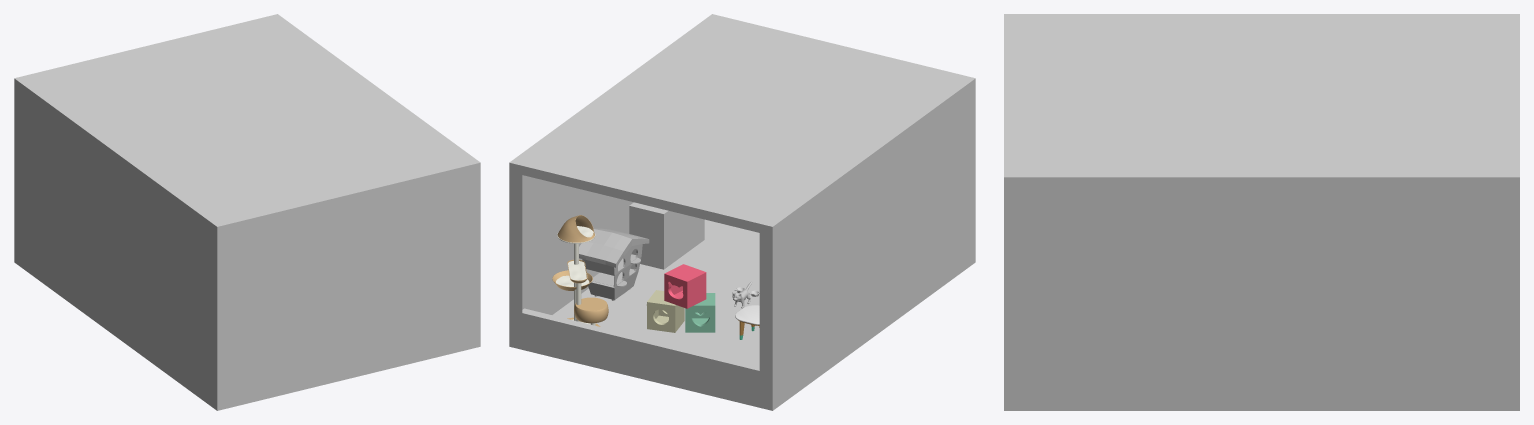
File: Room-GB-01-04-Unity.fbx
The picture shows the model from 3 angles, left to right: view 1: azimuth 30°, elevation 25°; view 2: azimuth 150°, elevation 25°; view 3: azimuth 270°, elevation 25°; orthographic projection. The views are drawn at different scales.
Visible parts, largest first — view 1: Ceiling, Rear_Wall, Right_Wall, Door; view 2: Ceiling, Right_Wall, Front_Wall, Floor, Left_Wall, Counter, Roof, Cube_Kitty, House_Cylinder_4, WindowBench, Cube_Circle, Cube_Heart (+3 smaller); view 3: Left_Wall, Ceiling, WindowBench.
Boxes of the visible parts, x1,y1,x2,y2 form: Ceiling: [14, 14, 480, 226]; Rear_Wall: [217, 162, 480, 410]; Right_Wall: [14, 78, 217, 410]; Door: [415, 228, 462, 362]; Ceiling: [509, 14, 975, 226]; Right_Wall: [772, 78, 975, 410]; Front_Wall: [509, 162, 772, 410]; Floor: [552, 219, 759, 365]; Left_Wall: [522, 175, 633, 314]; Counter: [629, 202, 704, 269]; Roof: [579, 228, 649, 267]; Cube_Kitty: [664, 264, 706, 308]; House_Cylinder_4: [582, 244, 642, 299]; WindowBench: [522, 308, 787, 399]; Cube_Circle: [646, 290, 684, 332]; Cube_Heart: [685, 293, 715, 332]; Left_Wall: [1004, 177, 1519, 410]; Ceiling: [1004, 14, 1519, 177]; WindowBench: [1481, 376, 1519, 410].
Size of the model in its own units: 457 by 305 by 610.
